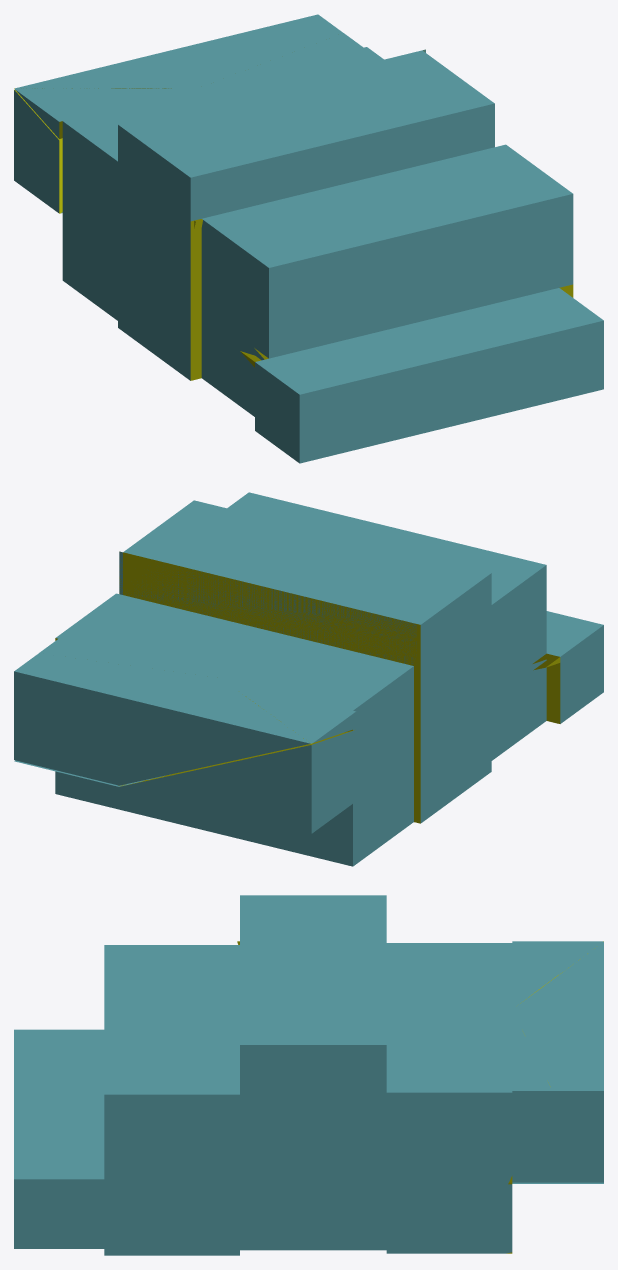
Rendered from TestCube_V3_Sliced.fbx.
3 renders of one model, top to bottom at view 1: azimuth 30°, elevation 25°; view 2: azimuth 150°, elevation 25°; view 3: azimuth 270°, elevation 25°, orthographic. The views are drawn at different scales.
Visible parts, largest first — view 1: polySurface57, polySurface60, polySurface62, polySurface58, polySurface63, polySurface59, polySurface64; view 2: polySurface60, polySurface58, polySurface63, polySurface57, polySurface59, polySurface62, polySurface65, polySurface64; view 3: polySurface60, polySurface57, polySurface58, polySurface62, polySurface63, polySurface64.
Part boxes in pixels (x1,y1,x2,y2): polySurface57: (201, 144, 573, 416); polySurface60: (118, 50, 494, 380); polySurface62: (240, 288, 603, 463); polySurface58: (62, 47, 383, 320); polySurface63: (15, 14, 342, 138); polySurface59: (14, 89, 62, 213); polySurface64: (200, 33, 363, 87); polySurface60: (123, 500, 491, 823); polySurface58: (55, 593, 413, 866); polySurface63: (14, 653, 356, 785); polySurface57: (227, 492, 546, 760); polySurface59: (14, 730, 355, 833); polySurface62: (533, 611, 603, 723); polySurface65: (119, 551, 416, 665); polySurface64: (39, 639, 217, 677); polySurface60: (240, 895, 386, 1250); polySurface57: (104, 945, 239, 1255); polySurface58: (386, 943, 512, 1253); polySurface62: (14, 1029, 104, 1248); polySurface63: (512, 941, 603, 1182); polySurface64: (509, 1010, 552, 1182).
Size of the model in its own units: 659 by 402 by 1048.
